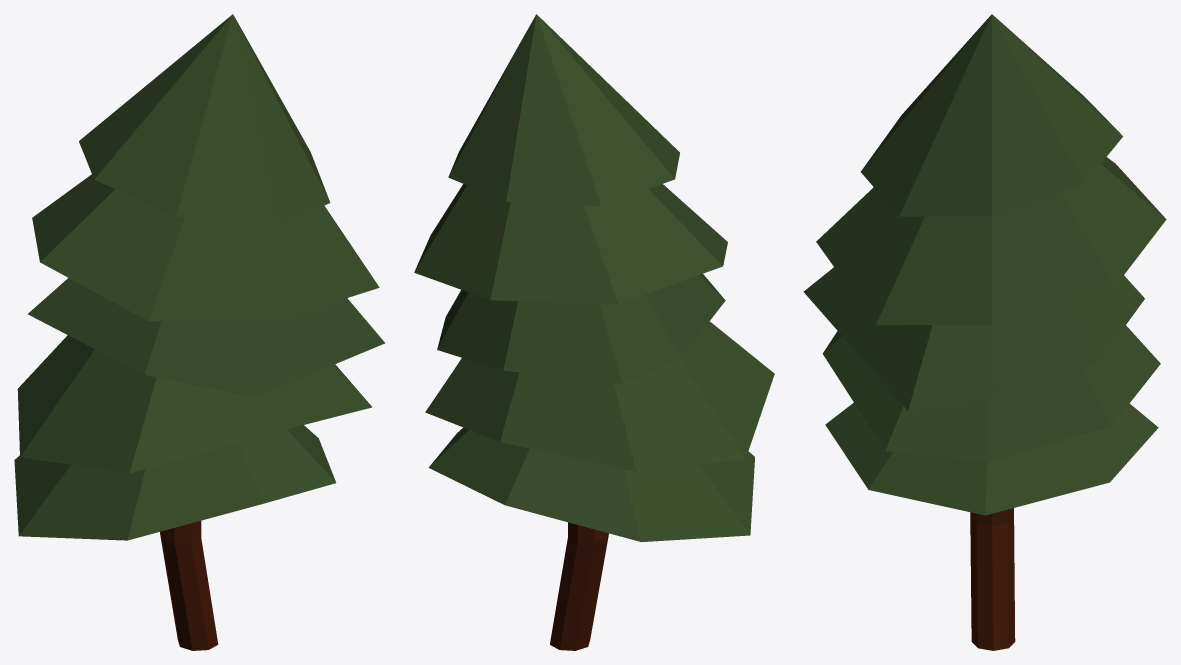
The model's file is agac4.fbx.
3 views of the same model, side by side, from view 1: azimuth 30°, elevation 25°; view 2: azimuth 150°, elevation 25°; view 3: azimuth 270°, elevation 25° (orthographic). The views are drawn at different scales.
Parts seen in each view (by area): view 1: Circle.003; view 2: Circle.003; view 3: Circle.003.
Part boxes in pixels (x1,y1,x2,y2): Circle.003: [14, 14, 384, 650]; Circle.003: [414, 14, 774, 650]; Circle.003: [803, 14, 1166, 650].
Bounding box in the file's own units: 0.7074 × 1.29 × 0.6556.
